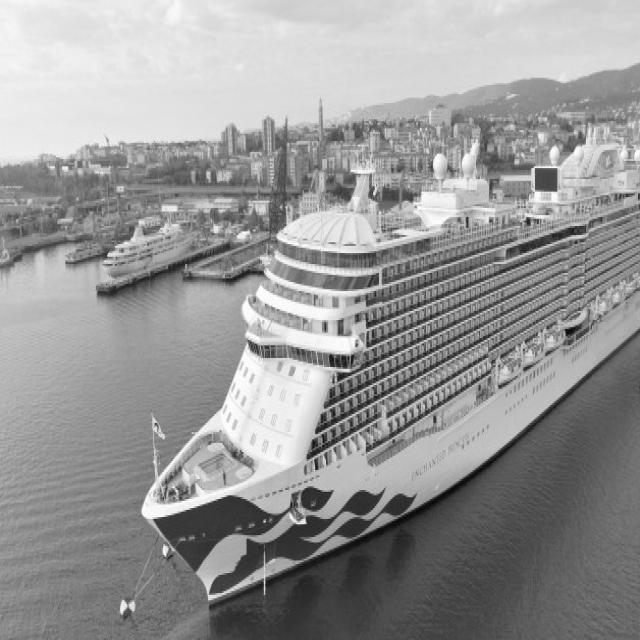cruises: (142, 113, 640, 623)
